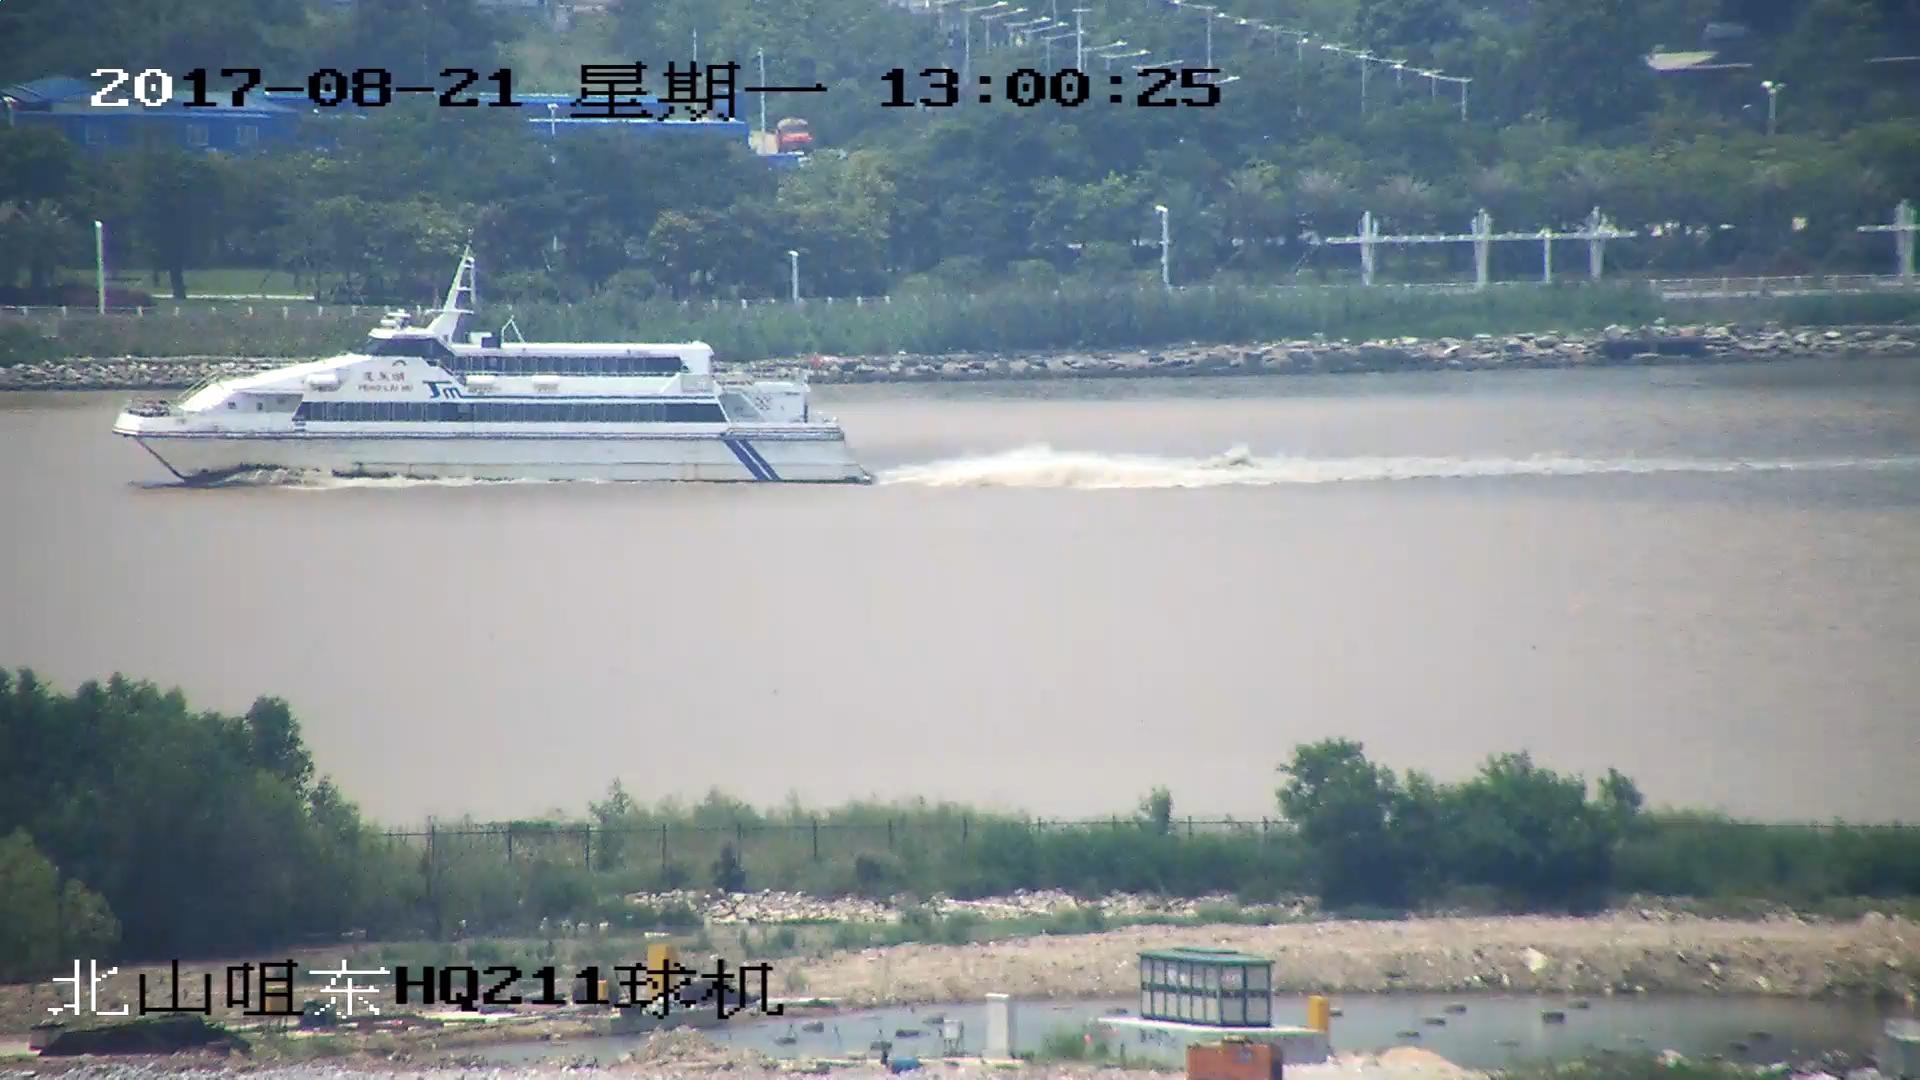passenger ship: (118, 247, 872, 489)
